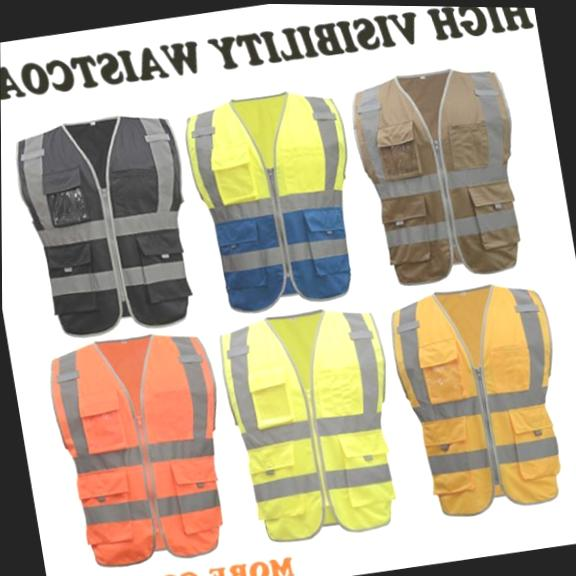safety_vest: (214, 298, 415, 551), (43, 322, 243, 574), (384, 274, 576, 529), (11, 106, 208, 346), (343, 53, 537, 296), (181, 85, 372, 321)
